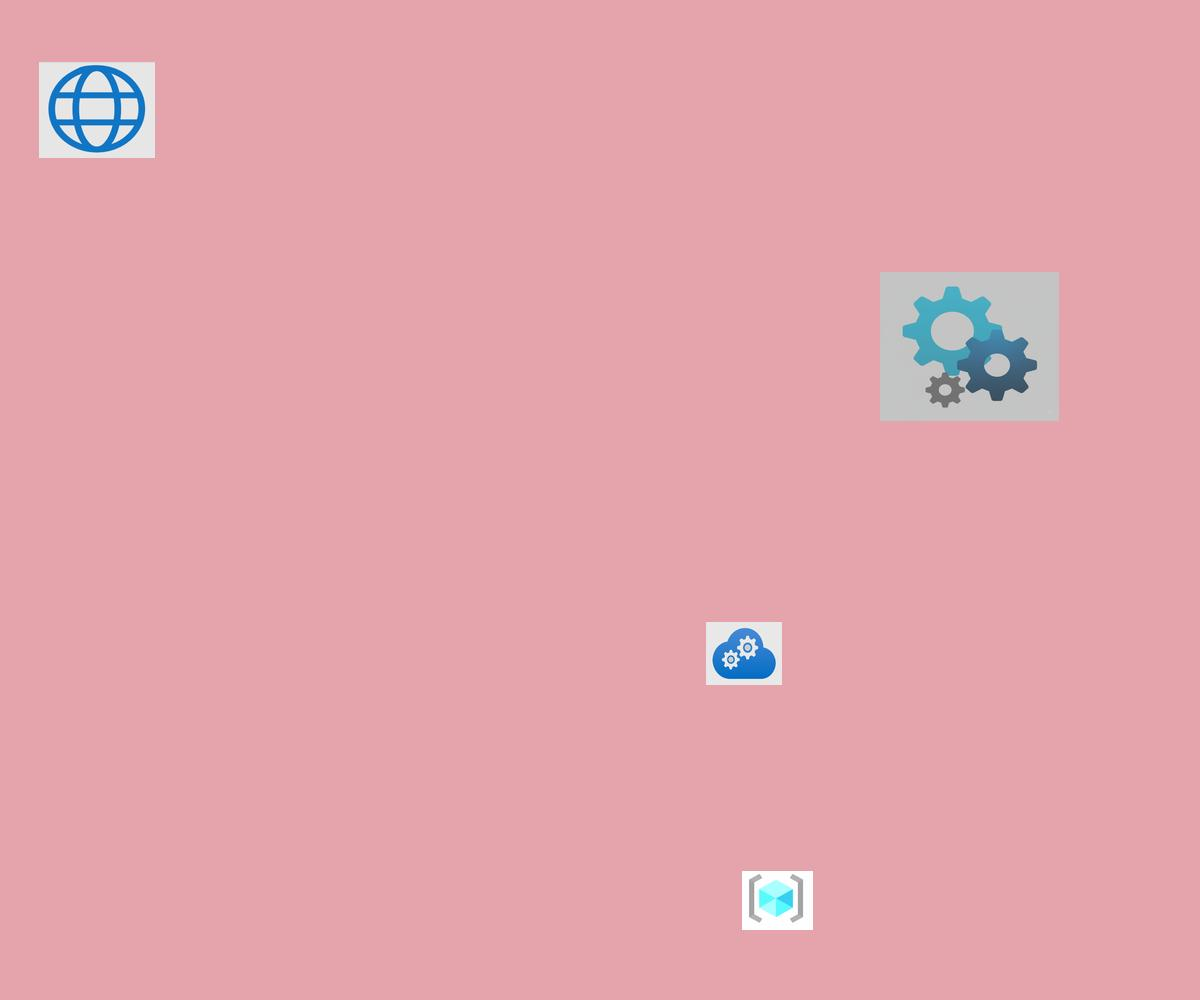Azure_api: (880, 272, 1059, 421)
Azure_cloud_services: (706, 622, 782, 685)
Azure_http: (39, 62, 155, 158)
Azure_resource_group: (742, 871, 813, 930)
